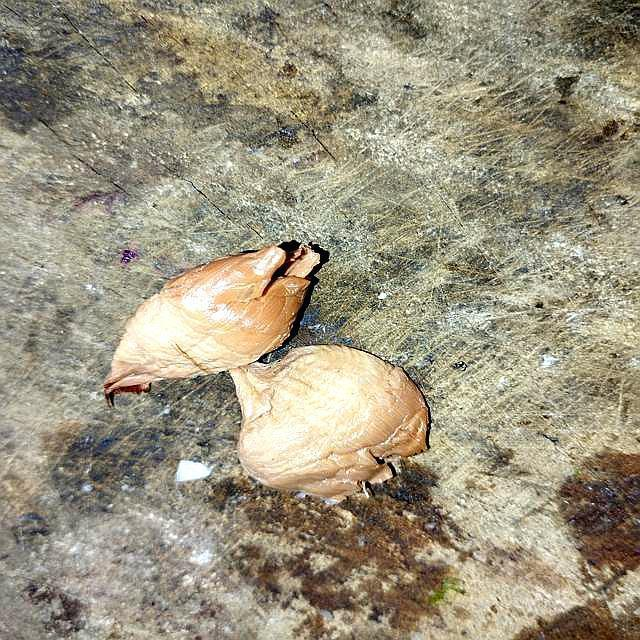Biodegradable: (77, 207, 369, 425), (233, 347, 431, 500)
